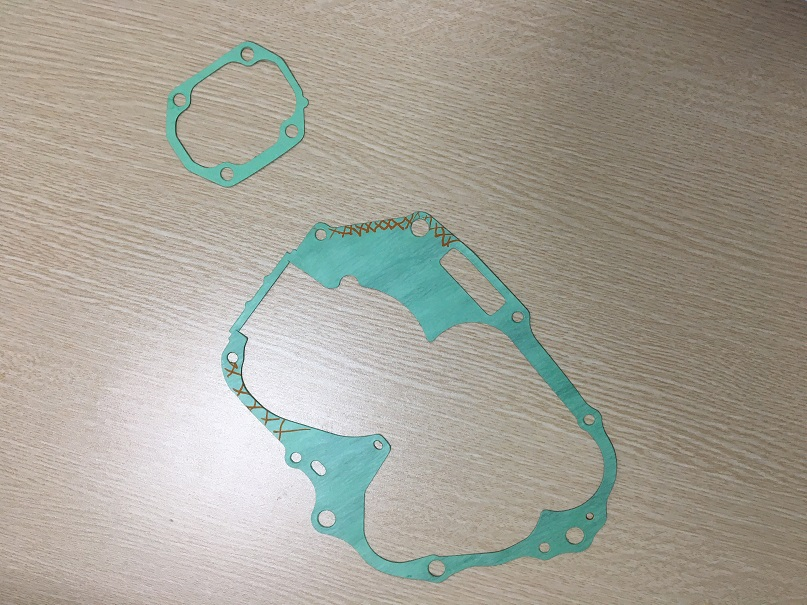type2: (162, 37, 318, 189)
type3: (209, 209, 627, 586)
